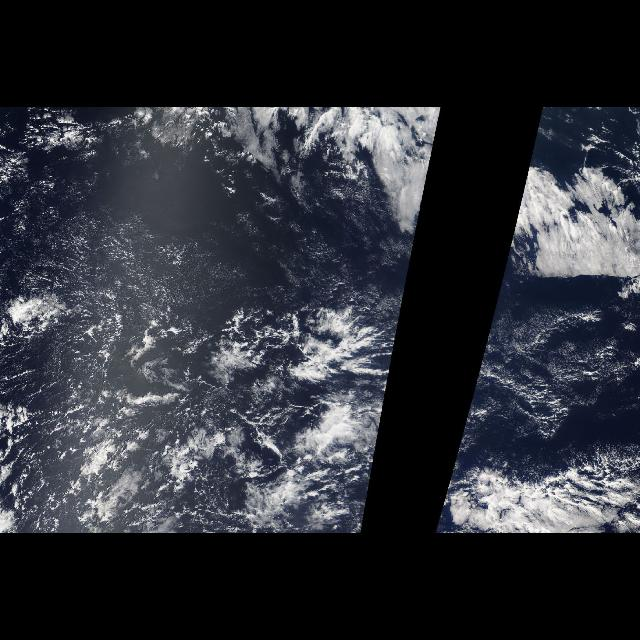Fish: (440, 444, 640, 534)
Gravel: (15, 332, 244, 520)
Sugar: (32, 172, 420, 316), (476, 296, 624, 444)
